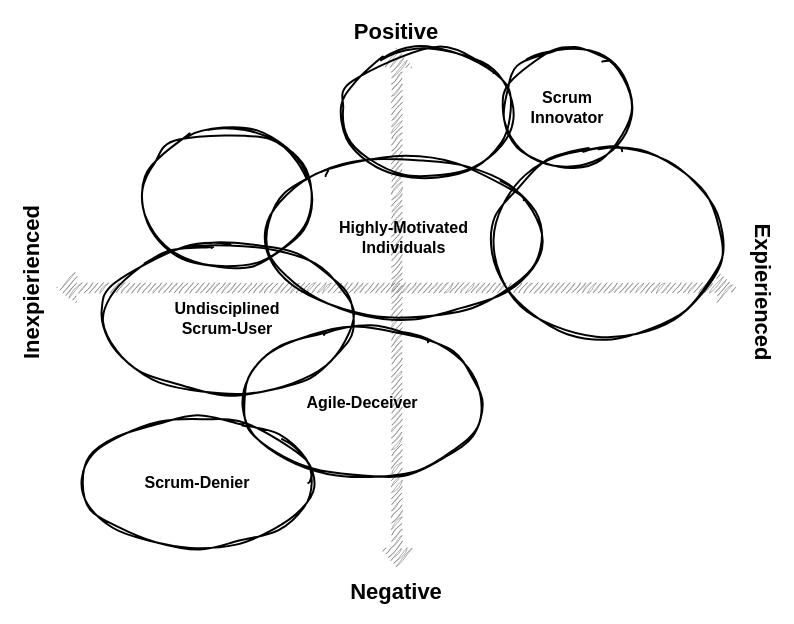
This 794x624 diagram has some shape labels left out. The shapes that lost their labels are listed below. From the top down, each one's centre as x and y in pixels, then its label:
(427,112): Scrum-Evangelist
(227,197): Scrum-Hype Follower
(607,242): Agile-Purist
